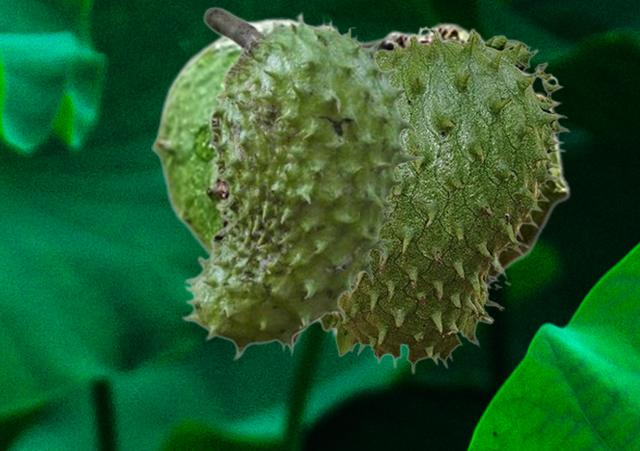guyabano: (151, 17, 570, 348), (317, 25, 570, 374), (180, 6, 424, 360)
